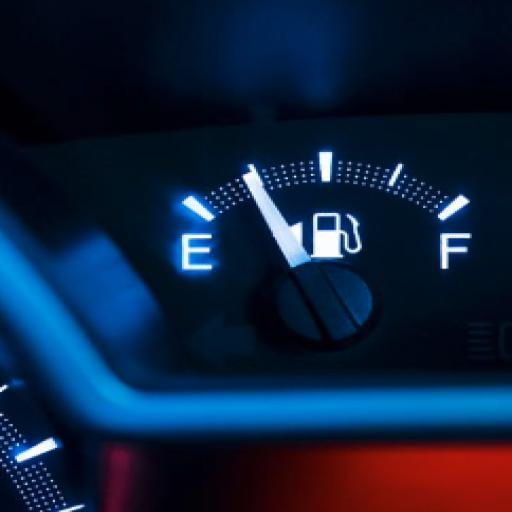empty: (176, 224, 217, 281), (434, 228, 474, 272)
fuel_icon: (306, 205, 366, 261)
guage_area: (155, 131, 496, 364)
needle_center: (273, 256, 378, 342)
needle_tip: (238, 167, 278, 211)
